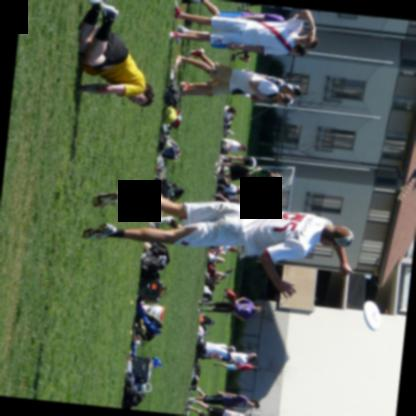backpack: (138, 241, 169, 281), (151, 175, 183, 201), (158, 136, 179, 161), (121, 383, 135, 405), (144, 312, 162, 329)
handbag: (229, 88, 245, 94)
